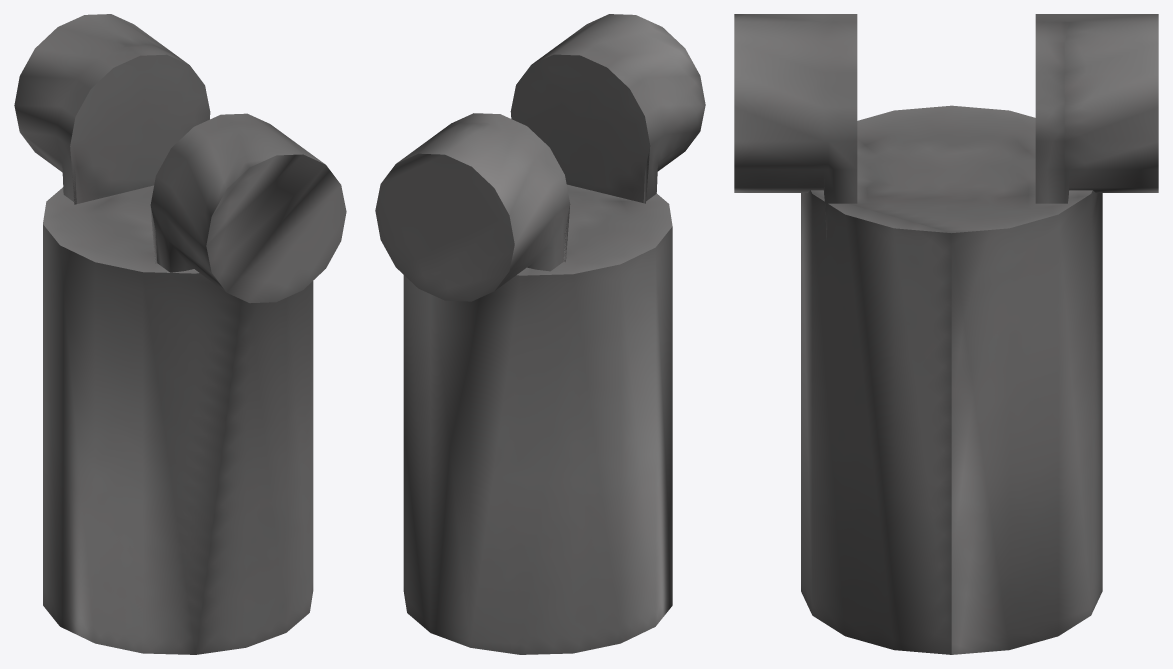
File: ltorso.dae
3 renders of one model, left to right at view 1: azimuth 30°, elevation 25°; view 2: azimuth 150°, elevation 25°; view 3: azimuth 270°, elevation 25°, orthographic. The views are drawn at different scales.
Parts seen in each view (by area): view 1: p36133, p36017; view 2: p36133, p36017; view 3: p36133, p36017.
Boxes of the visible parts, box(x1,y1,x2,y2) form: p36133: box(43, 185, 313, 654); p36017: box(14, 14, 346, 303); p36133: box(403, 184, 672, 654); p36017: box(375, 14, 705, 301); p36133: box(801, 105, 1102, 654); p36017: box(734, 14, 1158, 239).
Bounding box in the file's own units: 0.0499 × 0.0702 × 0.1038.
